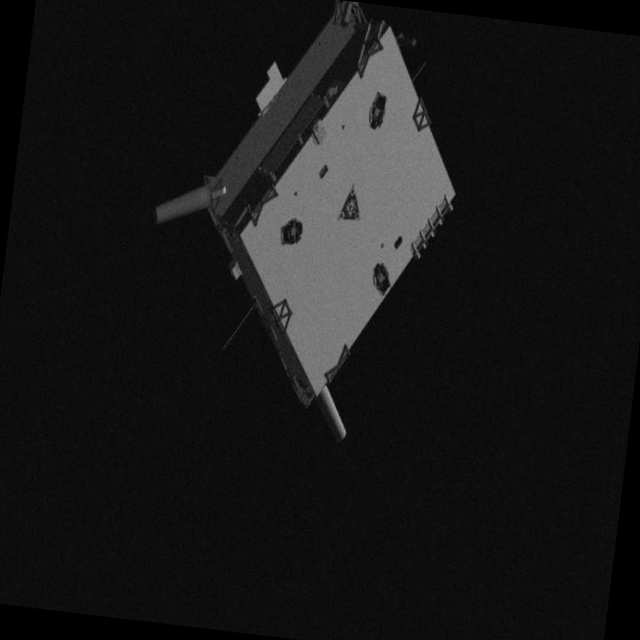medium_debris: (129, 0, 487, 451)
